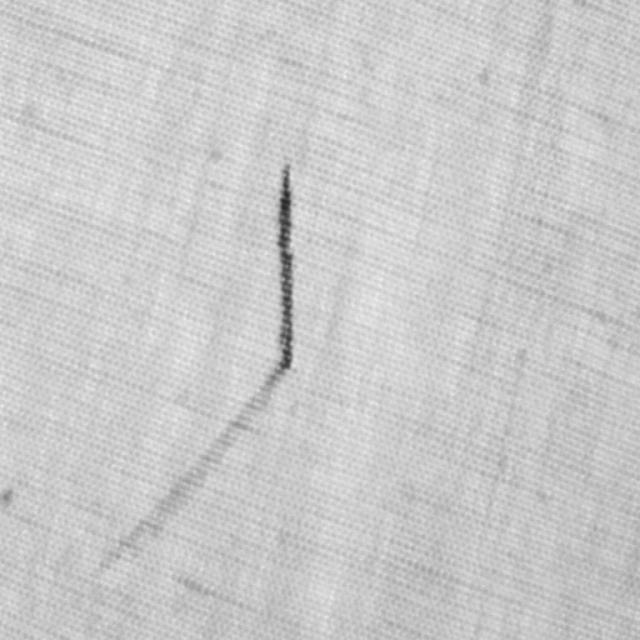oil spot: (86, 364, 293, 580), (275, 161, 295, 369)
